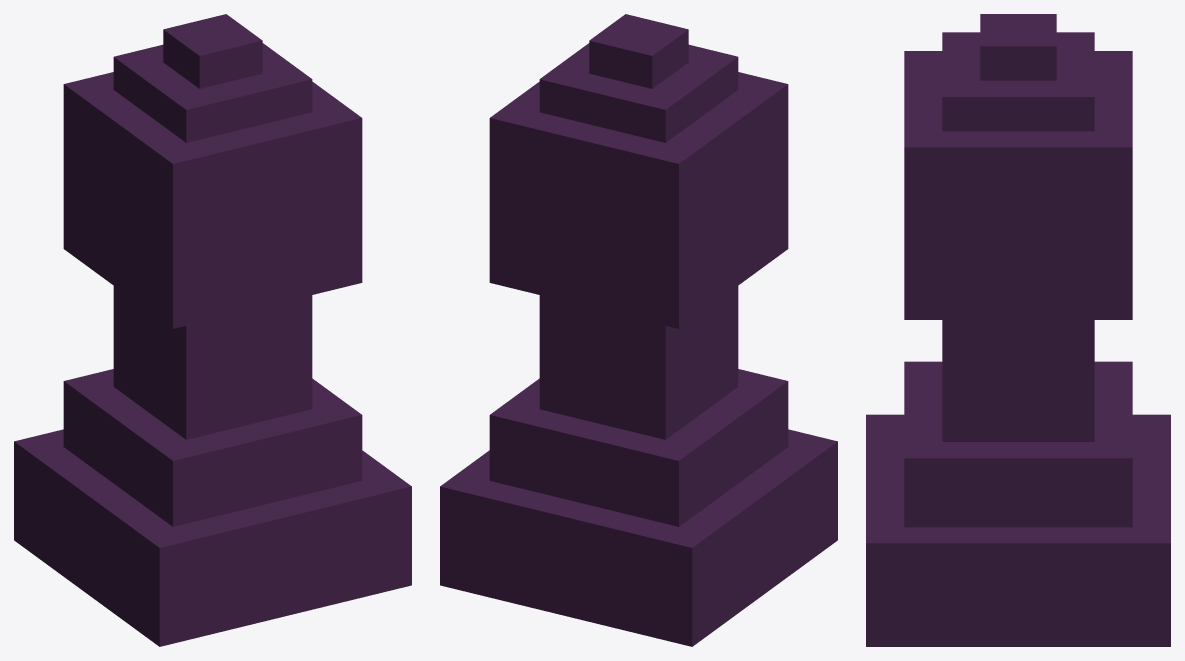
File: token-v3-purple.gltf
3 views of the same model, side by side, from view 1: azimuth 30°, elevation 25°; view 2: azimuth 150°, elevation 25°; view 3: azimuth 270°, elevation 25° (orthographic). The views are drawn at different scales.
Visible parts, largest first — view 1: Untitled; view 2: Untitled; view 3: Untitled.
Boxes of the visible parts, left/top/right/bottom form: Untitled: left=14, top=14, right=411, bottom=646; Untitled: left=440, top=14, right=837, bottom=646; Untitled: left=866, top=14, right=1170, bottom=646.
Size of the model in its own units: 0.8 by 1.6 by 0.8.
1 material, 1 textured.
